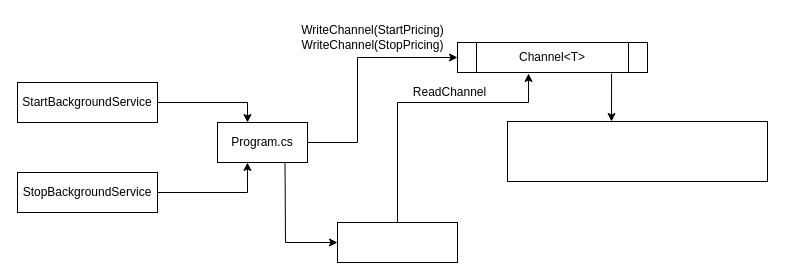
The diagram is 785 pixels wide and 280 high, and some of its shapes have lost their labels. Each missing label, with the centre of its shape:
BackGroudService: point (397, 242)
T -> IPricingRequest IPricingRequest -> StartPricing, StopPricing: point (637, 151)
